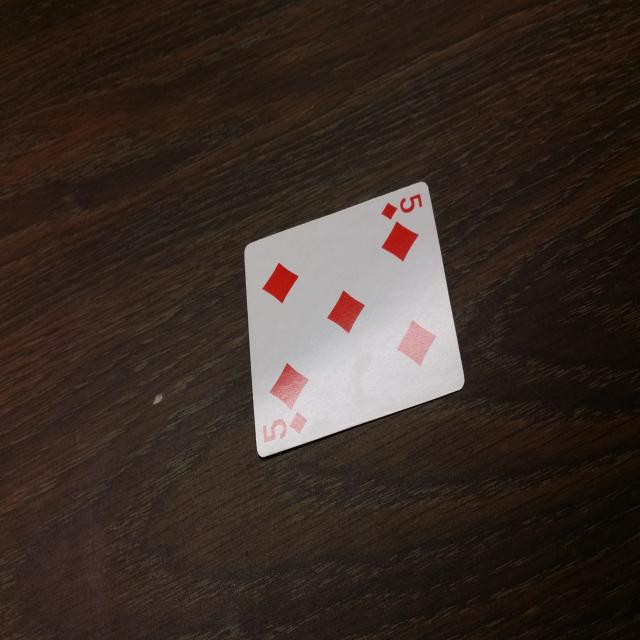5d: (253, 402, 312, 458), (373, 185, 429, 234)
